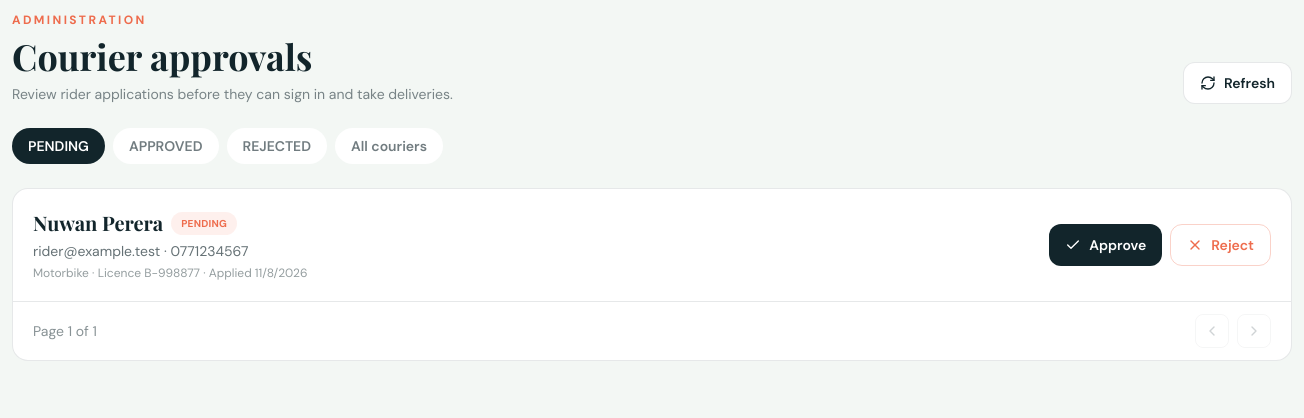
Test: CourierApprovalsPage › removes a reviewed courier from the pending filter
Expected: the heading "Nuwan Perera" is shown, [33,209,163,237]
Click the button "Approve": click(1106, 245) [1049,224,1162,266]
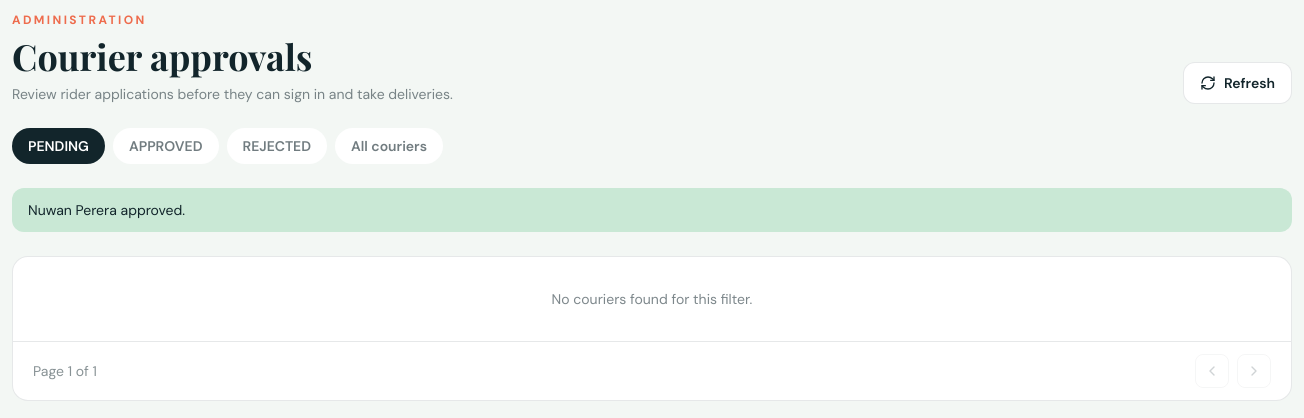
Expected: the message reads "Nuwan Perera approved.", [28,201,185,219]
Expected: the text "No couriers found for this filter." is shown, [552,290,752,308]
